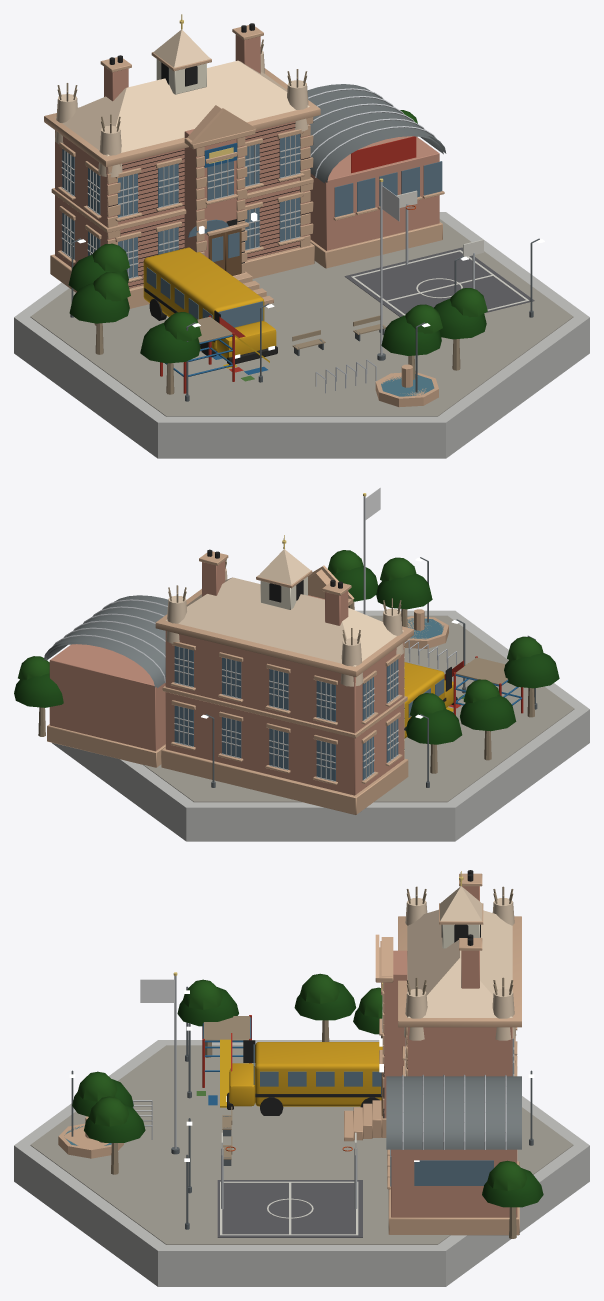
File: school_africa.glb
3 views of the same model, one above another, from view 1: azimuth 30°, elevation 25°; view 2: azimuth 150°, elevation 25°; view 3: azimuth 270°, elevation 25° (orthographic). The views are drawn at different scales.
Visible parts, largest first — view 1: pavers, wall_concrete, brick, stone, plaster, glass, leaf, paint, asphalt, dark, wood, metal (+1 smaller); view 2: wall_concrete, brick, stone, pavers, plaster, leaf, glass, wood, paint, metal, steel_dark, dark; view 3: wall_concrete, pavers, brick, plaster, leaf, stone, paint, asphalt, glass, wood, metal, dark (+2 smaller).
Part boxes in pixels (box(x1,y1,x2,y2)): pavers: box(30, 219, 573, 416); wall_concrete: box(14, 84, 589, 458); brick: box(55, 34, 439, 288); stone: box(44, 25, 444, 407); plaster: box(55, 29, 309, 177); glass: box(62, 134, 442, 396); leaf: box(68, 110, 487, 363); paint: box(143, 136, 529, 393); asphalt: box(344, 247, 534, 316); dark: box(107, 23, 310, 364); wood: box(57, 39, 460, 394); metal: box(308, 88, 474, 393); wall_concrete: box(43, 595, 589, 841); brick: box(49, 560, 403, 795); stone: box(47, 551, 448, 814); pavers: box(143, 615, 574, 802); plaster: box(166, 549, 403, 686); leaf: box(14, 550, 559, 744); glass: box(174, 618, 444, 780); wood: box(38, 559, 534, 773); paint: box(404, 656, 523, 738); metal: box(52, 496, 456, 682); steel_dark: box(205, 557, 537, 787); dark: box(207, 549, 457, 749); wall_concrete: box(14, 995, 589, 1286); pavers: box(30, 1045, 573, 1244); brick: box(384, 886, 517, 1217); plaster: box(404, 886, 516, 1040); leaf: box(72, 973, 543, 1207); stone: box(58, 873, 521, 1235); paint: box(196, 1015, 382, 1235); asphalt: box(217, 1180, 362, 1237); glass: box(64, 1039, 513, 1186); wood: box(99, 886, 516, 1238); metal: box(133, 975, 506, 1209); dark: box(227, 870, 480, 1118).
Size of the model in its own units: 21.48 by 13.7 by 24.6.
